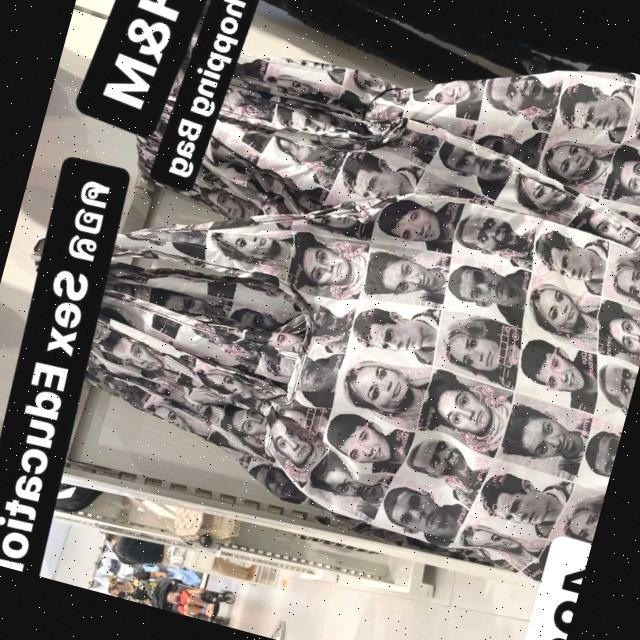handbag: (211, 152, 640, 595)
